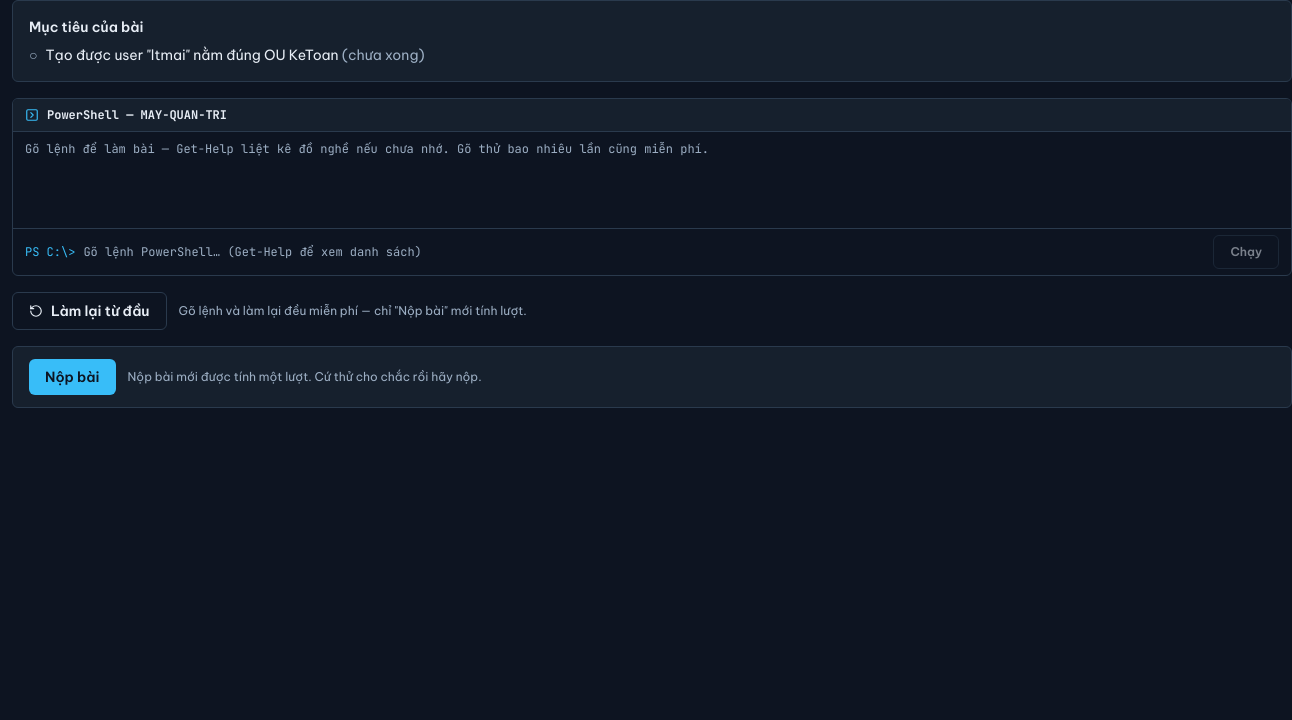
Test: terminal PowerShell › Get-Help kể đồ nghề bằng tiếng Việt; cmdlet lạ được đáp tử tế
In the field named "Ô gõ lệnh PowerShell": (644, 252) [83,240,1205,264], type "Get-Help"
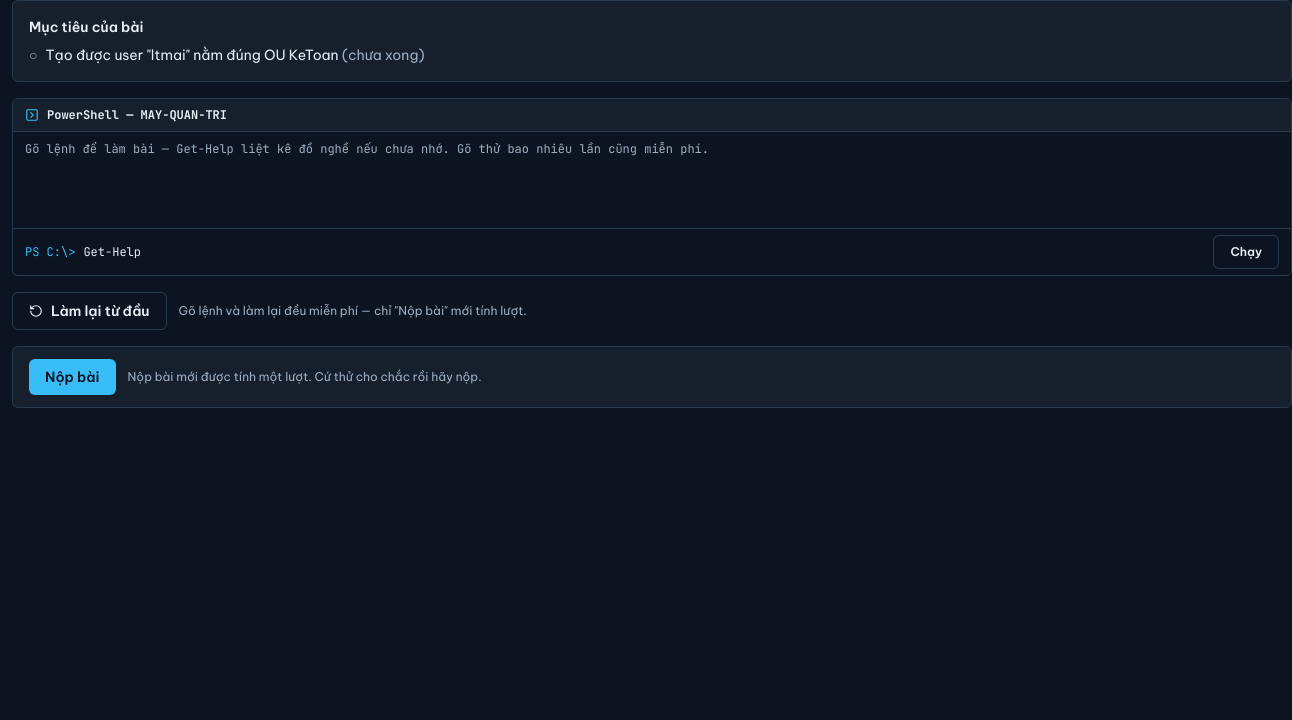
Click the button "Chạy": (1246, 252) [1213,235,1279,269]
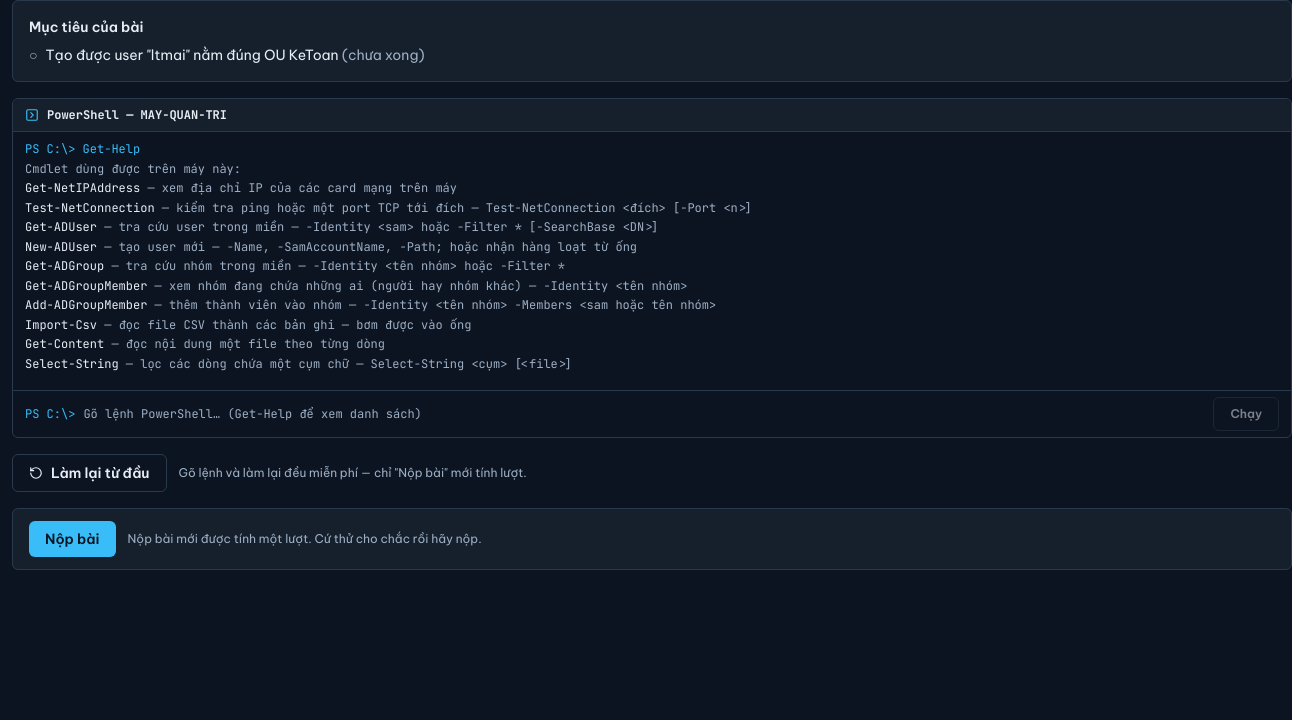
Expected: the list item "tạo user mới" is shown, [119,238,637,254]
In the field named "Ô gõ lệnh PowerShell": (644, 414) [83,402,1205,426], type "Remove-Item C:\\"
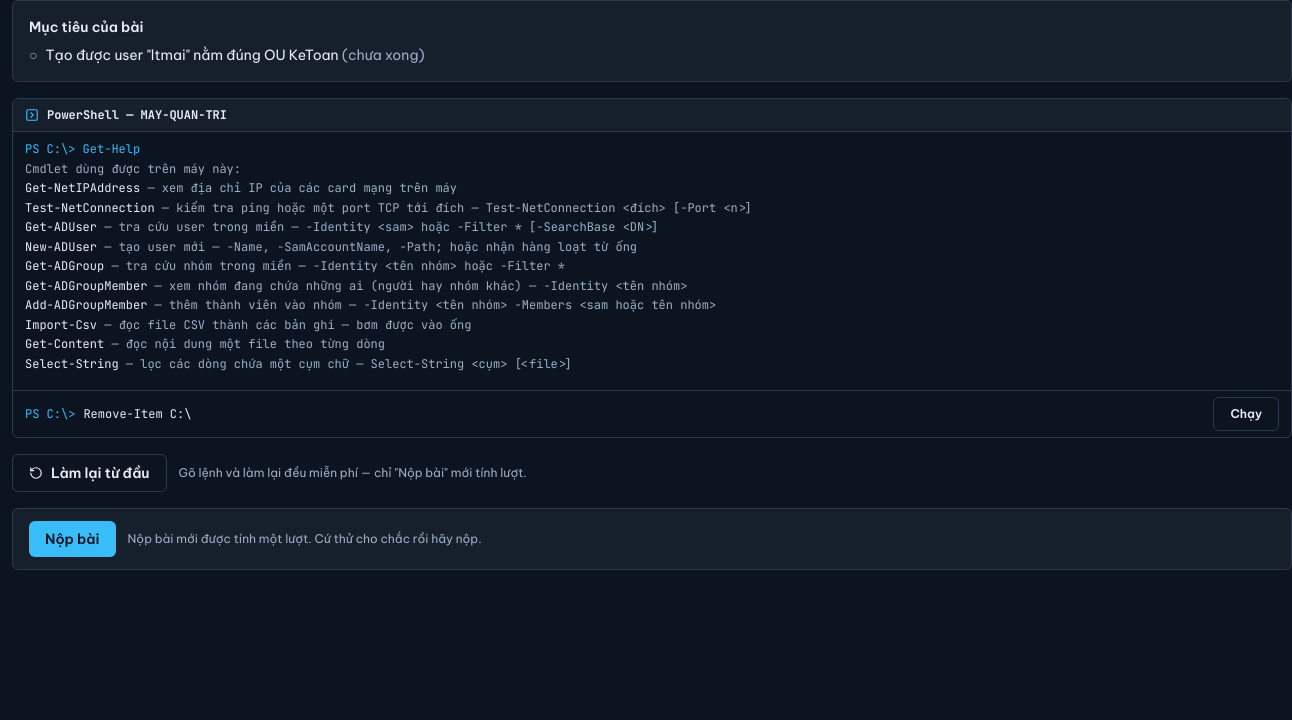
Click the button "Chạy": (1246, 414) [1213,397,1279,431]
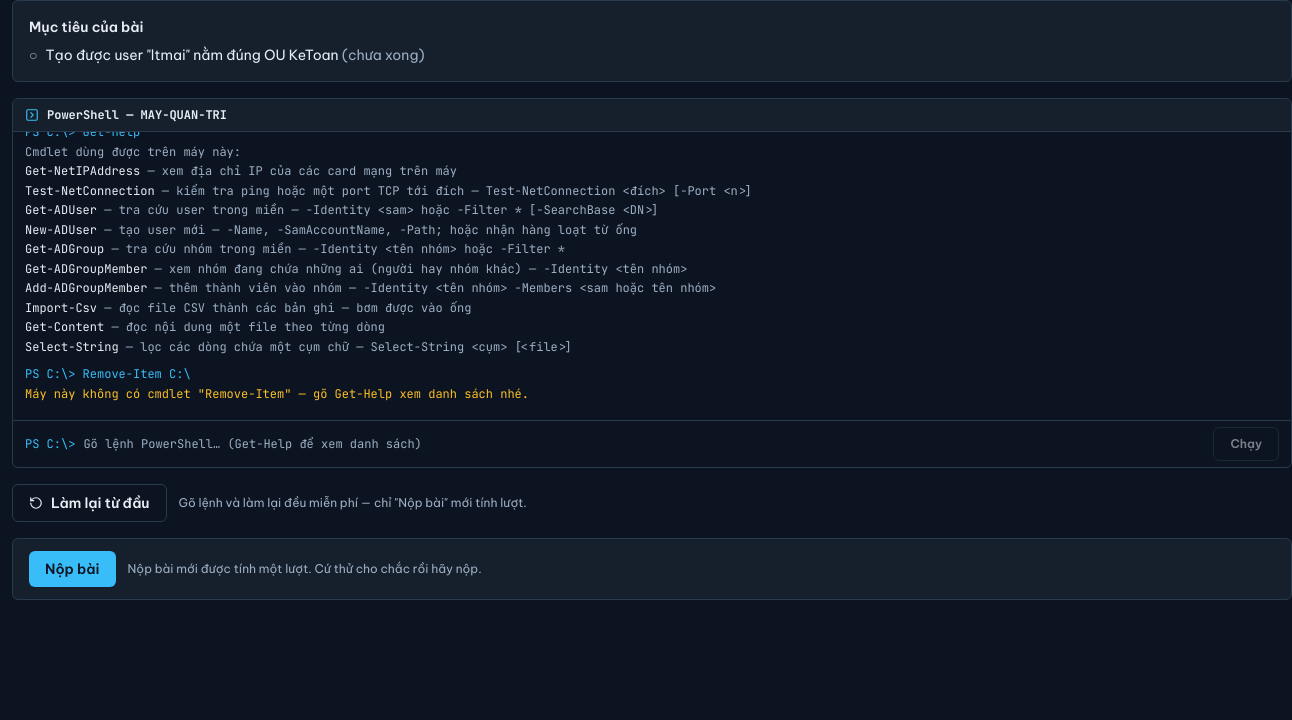
Expected: the text "không có cmdlet \"Remove-Item\"" is shown, [25,386,529,402]
